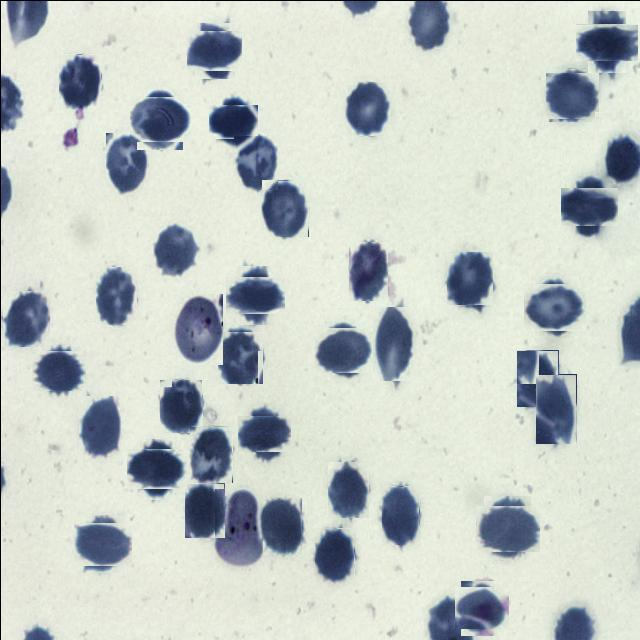red blood cell: (478, 500, 534, 556), (526, 278, 582, 334), (372, 306, 414, 380), (132, 91, 186, 146), (535, 374, 576, 444), (260, 179, 308, 236), (317, 323, 369, 375), (78, 395, 120, 458), (2, 290, 49, 346), (105, 132, 147, 194), (76, 518, 128, 568), (130, 444, 182, 494), (344, 80, 390, 135), (546, 70, 596, 120), (580, 16, 630, 66), (446, 252, 492, 306), (189, 425, 232, 482), (217, 330, 263, 383), (260, 496, 302, 554), (58, 53, 101, 109), (348, 240, 388, 300), (456, 584, 506, 632), (327, 460, 369, 517), (516, 349, 558, 406), (95, 266, 136, 324), (232, 135, 276, 189), (153, 221, 196, 276), (159, 378, 202, 432), (565, 182, 613, 230), (190, 26, 238, 74), (34, 346, 82, 394), (230, 270, 278, 318), (381, 485, 419, 544), (184, 482, 224, 537), (314, 527, 354, 581), (241, 410, 287, 456), (212, 100, 254, 142)
ring: (214, 488, 262, 566), (172, 293, 222, 364)
